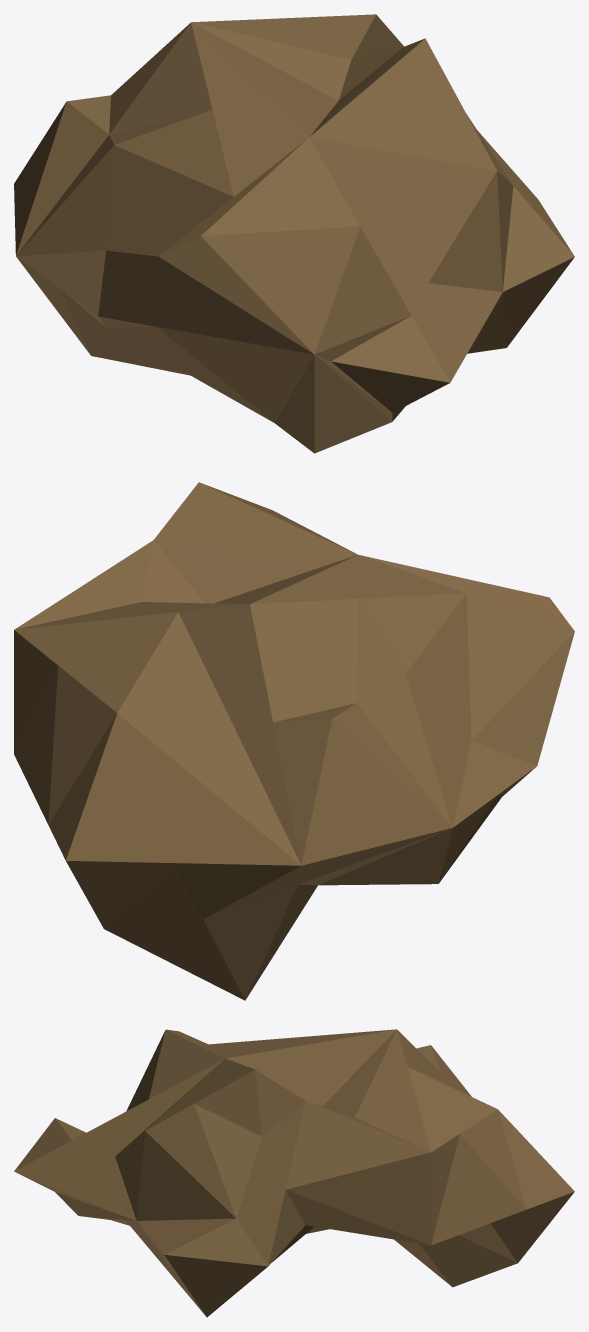
The model's file is Asteroid 3.fbx.
The picture shows the model from 3 angles, top to bottom: view 1: azimuth 30°, elevation 25°; view 2: azimuth 150°, elevation 25°; view 3: azimuth 270°, elevation 25°; orthographic projection. The views are drawn at different scales.
Parts seen in each view (by area): view 1: Asteroid_3_1; view 2: Asteroid_3_1; view 3: Asteroid_3_1.
Part boxes in pixels (left/top/right/bottom): Asteroid_3_1: left=14, top=14, right=574, bottom=453; Asteroid_3_1: left=14, top=482, right=574, bottom=1000; Asteroid_3_1: left=14, top=1029, right=574, bottom=1317.
Bounding box in the file's own units: 1266 × 991 × 1782.
